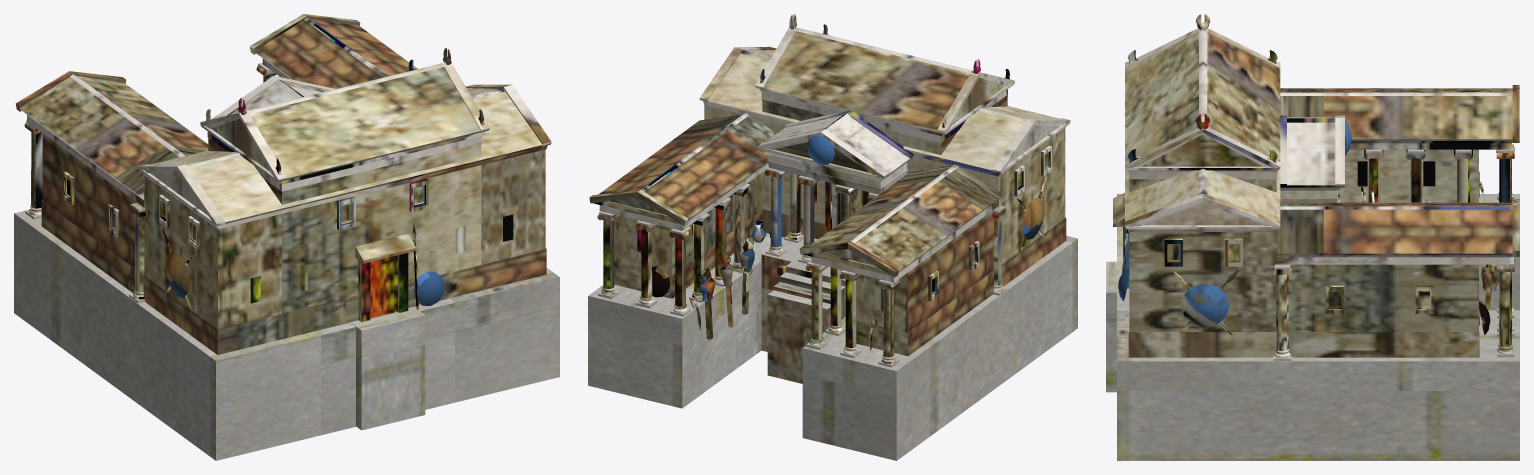
The model's file is barracks.glb.
The picture shows the model from 3 angles, left to right: view 1: azimuth 30°, elevation 25°; view 2: azimuth 150°, elevation 25°; view 3: azimuth 270°, elevation 25°; orthographic projection. The views are drawn at different scales.
Visible parts, largest first — view 1: barracks; view 2: barracks; view 3: barracks.
Part boxes in pixels (left/top/right/bottom): barracks: left=14, top=14, right=559, bottom=460; barracks: left=588, top=14, right=1077, bottom=460; barracks: left=1106, top=14, right=1519, bottom=460.
Bounding box in the file's own units: 3.87 × 3.34 × 4.
Materials: 6 (6 with a texture image).
